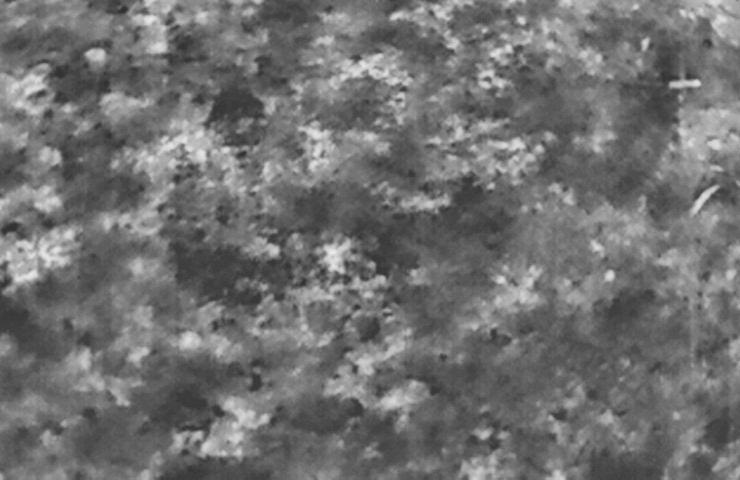landmines: (318, 235, 356, 277)
